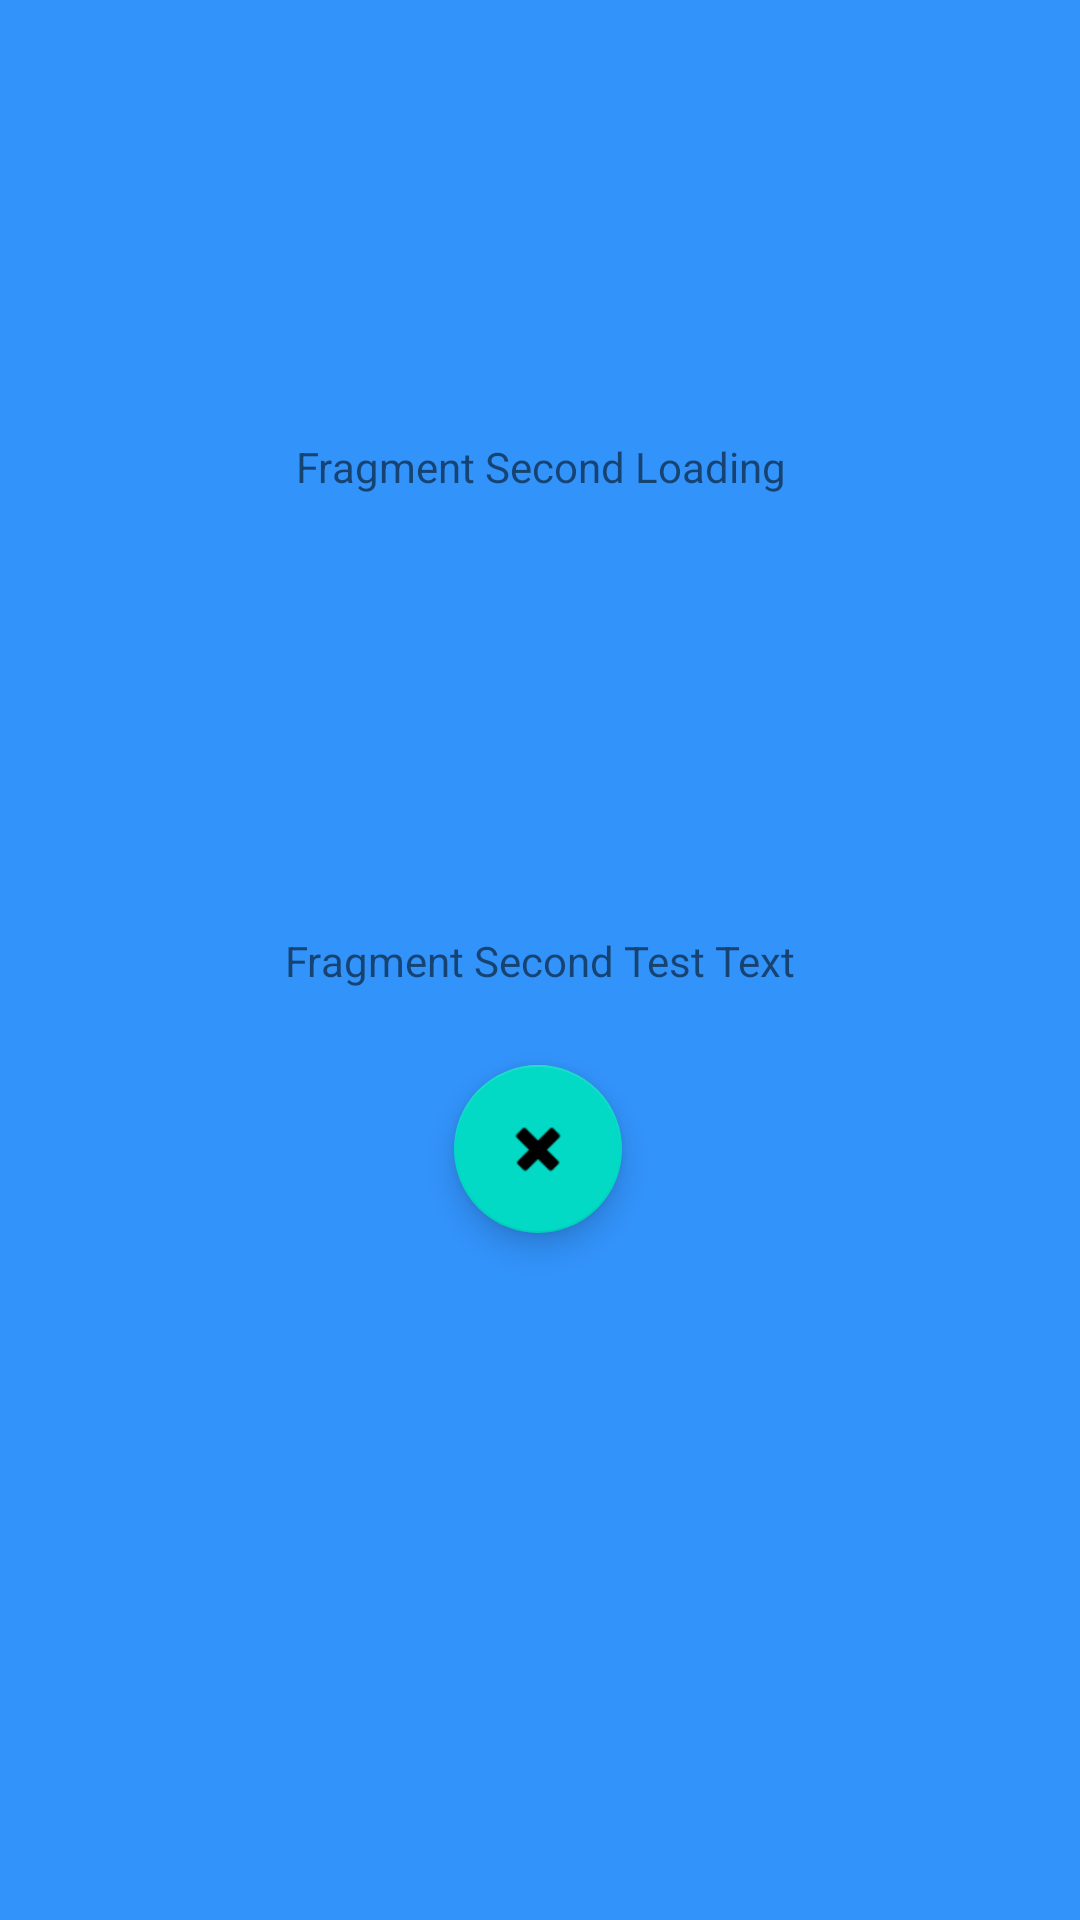

Screen size 1080 × 1920. Icon name, then its box in pixels as (x1, y1, x2, y2):
delete: (454, 1065, 622, 1233)
